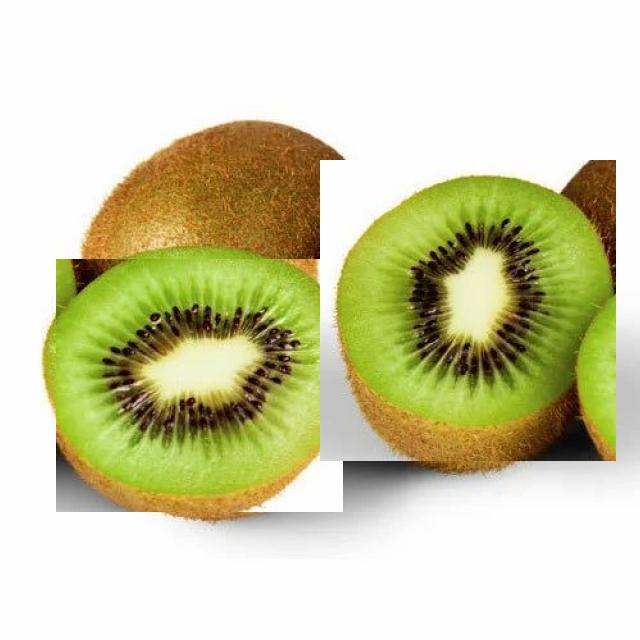Qiwi: (320, 160, 616, 461), (56, 259, 343, 512), (72, 113, 374, 270)
